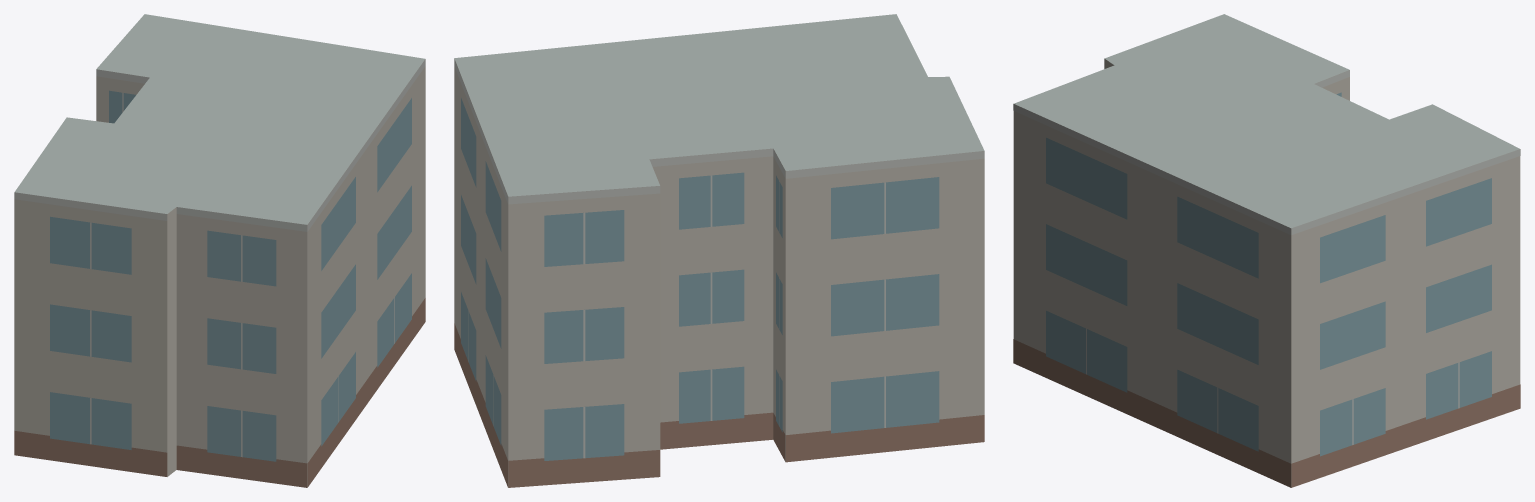
The model's file is survey-upis-32881564.glb.
The picture shows the model from 3 angles, left to right: view 1: azimuth 30°, elevation 25°; view 2: azimuth 150°, elevation 25°; view 3: azimuth 270°, elevation 25°; orthographic projection. The views are drawn at different scales.
Visible parts, largest first — view 1: survey-upis-32881564.tmp; view 2: survey-upis-32881564.tmp; view 3: survey-upis-32881564.tmp.
Part boxes in pixels (x1,y1,x2,y2): survey-upis-32881564.tmp: (14,14,425,487); survey-upis-32881564.tmp: (454,14,984,487); survey-upis-32881564.tmp: (1013,14,1520,487).
Bounding box in the file's own units: 16.21 × 9.15 × 16.2.
